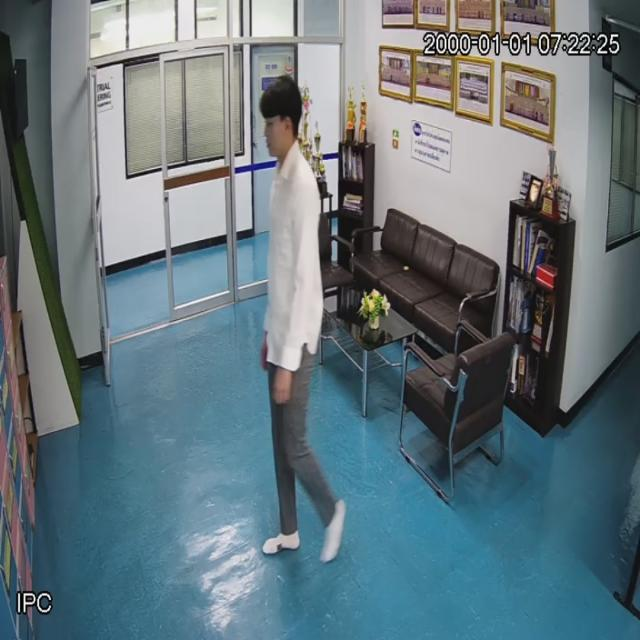normal: (255, 75, 336, 558)
